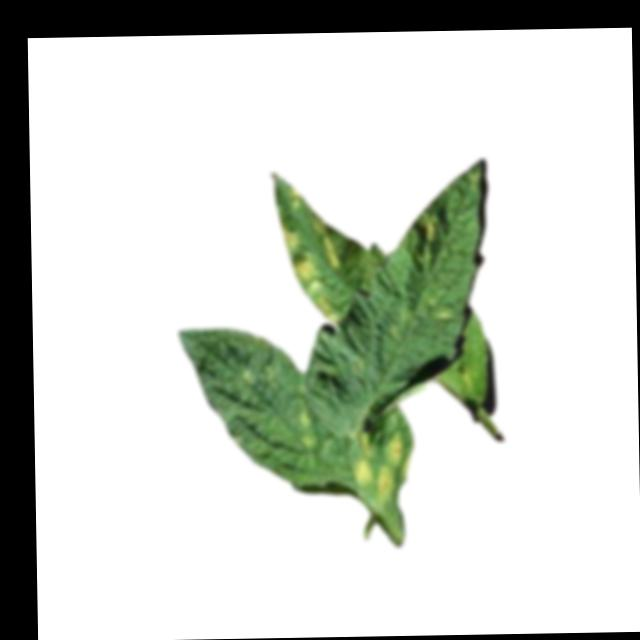Leaf_Mold: (279, 182, 344, 325), (351, 427, 412, 505), (413, 206, 443, 248)
